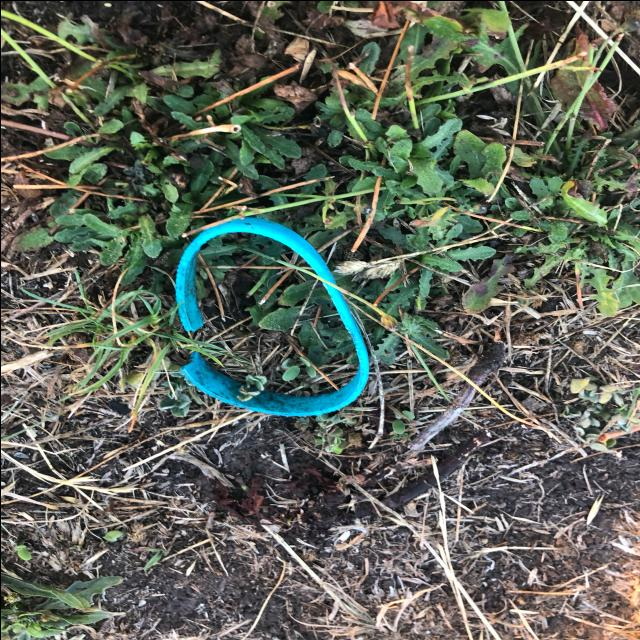Other plastic bottle: (174, 216, 368, 416)
